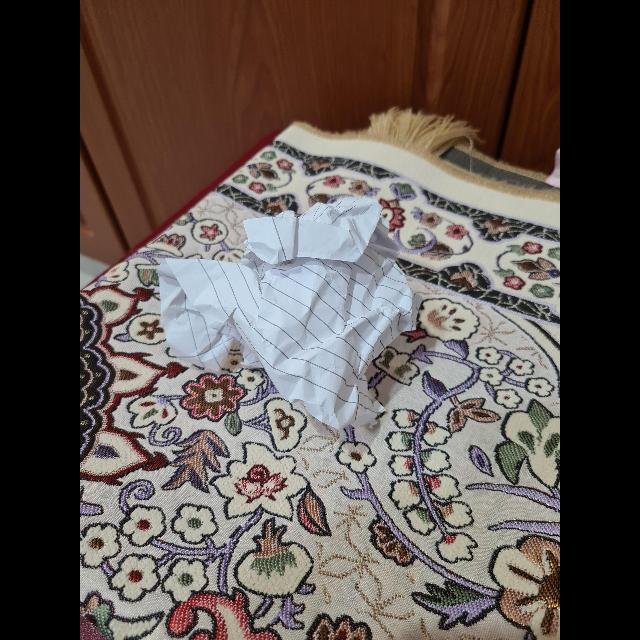scrap_paper: (156, 199, 412, 415)
